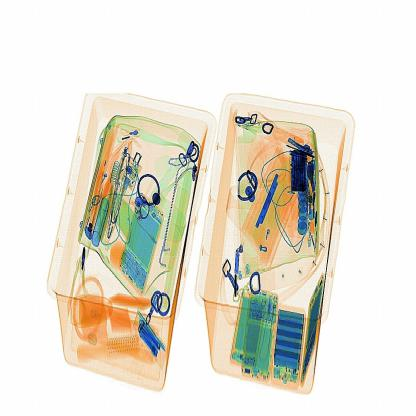scissors: (290, 138, 312, 198)
